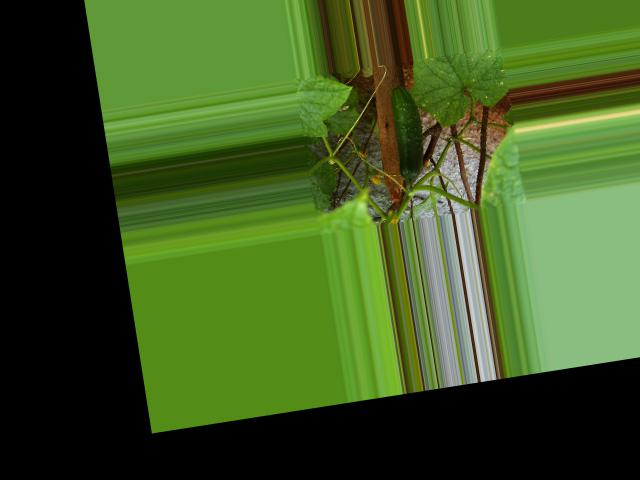cucumber: (386, 83, 429, 181)
